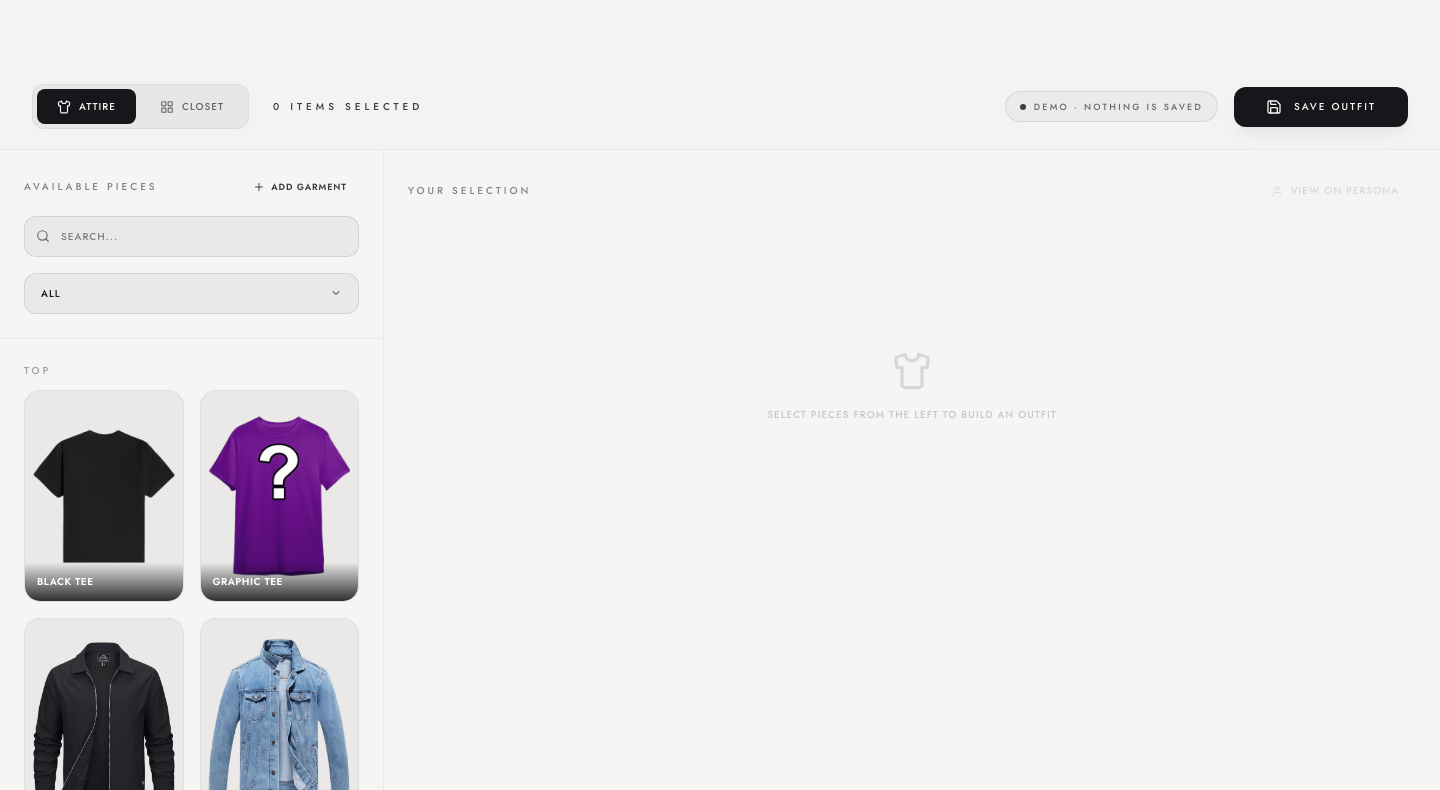
Test: DemoPage › the Closet tab lists the same preset items and its Add / Edit stay gated
Click the button "Closet". click: (192, 106)
box: [140,89,244,124]
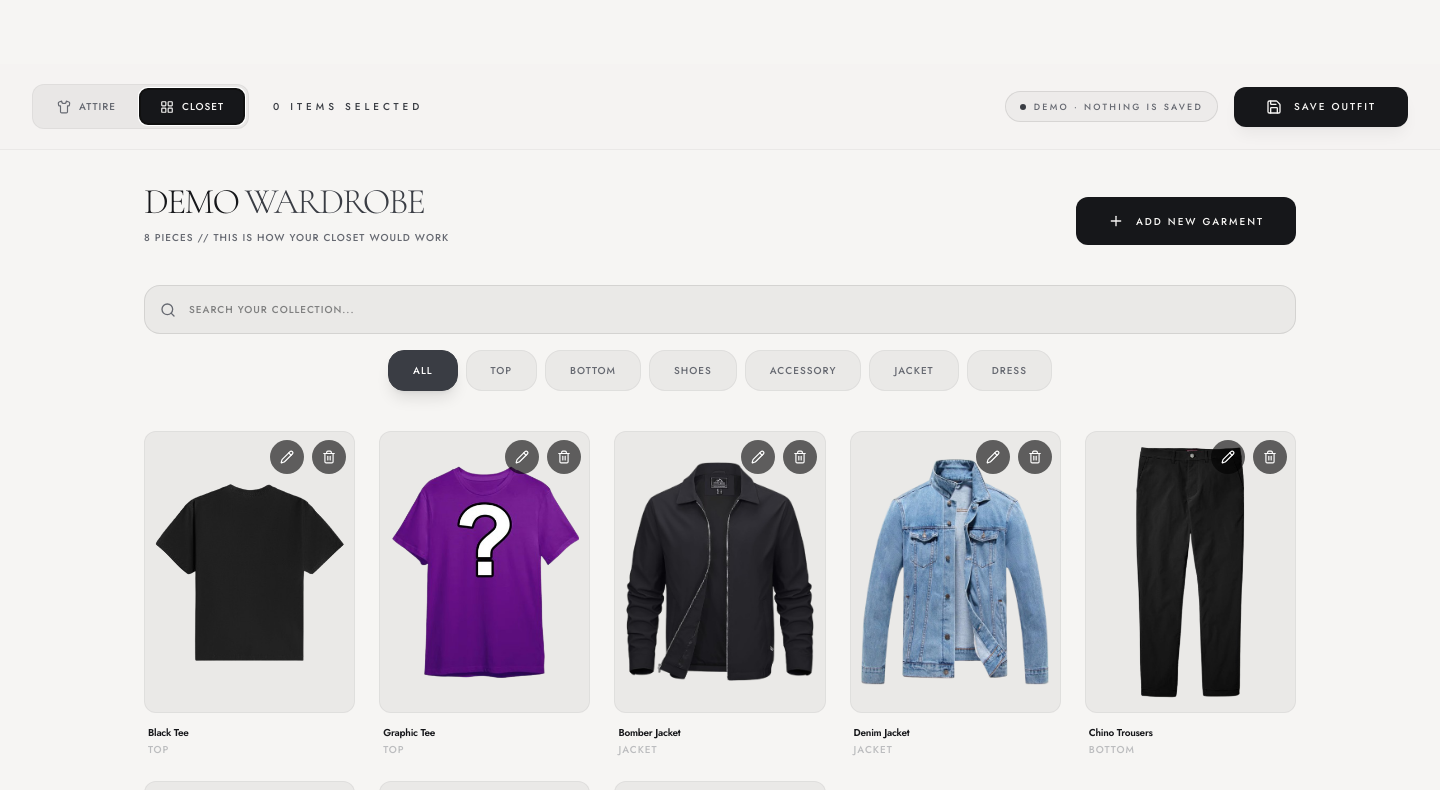
expect the heading "Demo Wardrobe" is shown: met, box [144,182,449,222]
Click the button "Add New Garment". click: (1186, 221)
box: [1076,197,1296,245]
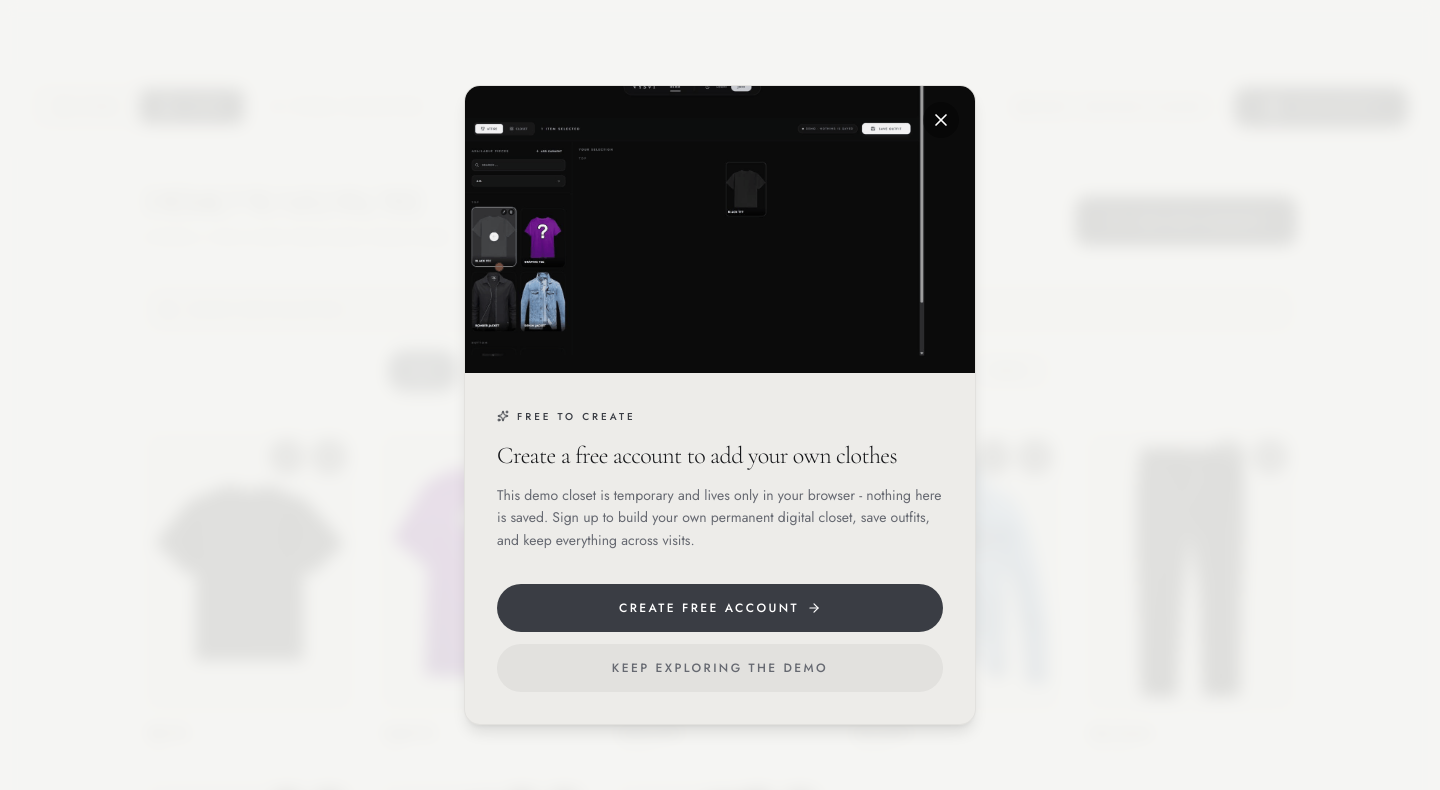
expect the heading "Create a free account to add your own clothes" is shown: met, box [497,440,943,472]
